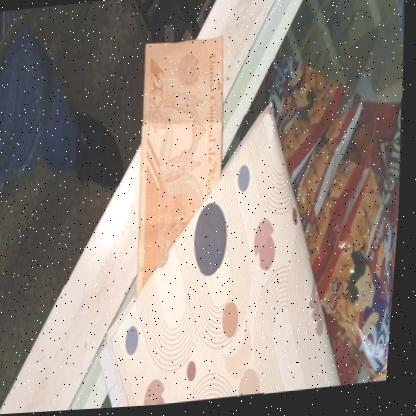vef_back: (126, 37, 238, 301)
